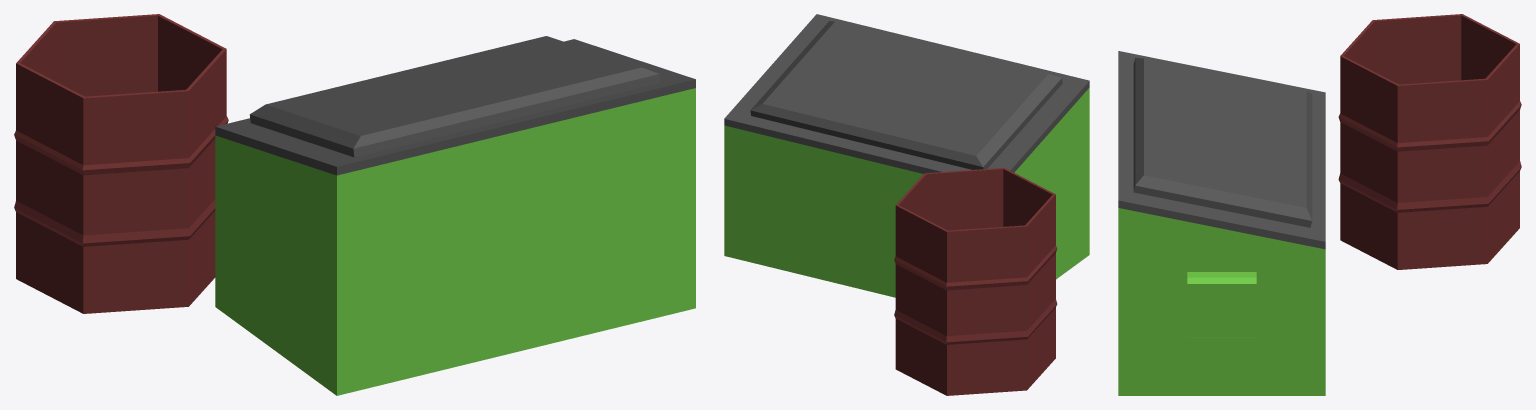
The model's file is déchet mesh 1.fbx.
3 renders of one model, left to right at view 1: azimuth 30°, elevation 25°; view 2: azimuth 150°, elevation 25°; view 3: azimuth 270°, elevation 25°, orthographic. The views are drawn at different scales.
Visible parts, largest first — view 1: entrepot dechets 6.012; view 2: entrepot dechets 6.012; view 3: entrepot dechets 6.012.
Boxes of the visible parts, bbox=[...] form: entrepot dechets 6.012: bbox=[14, 14, 695, 395]; entrepot dechets 6.012: bbox=[724, 14, 1089, 395]; entrepot dechets 6.012: bbox=[1118, 14, 1521, 395].
Bounding box in the file's own units: 475 × 219 × 389.
